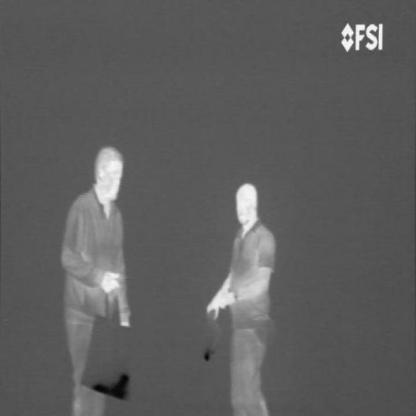weapon: (87, 369, 130, 404)
